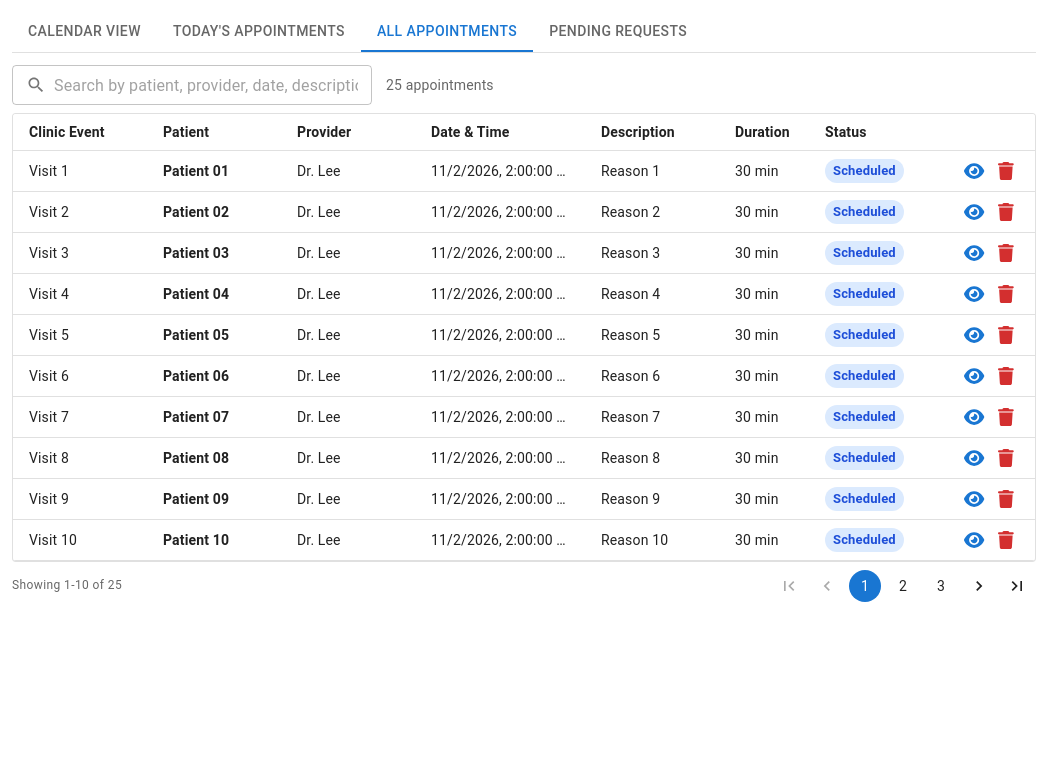
Test: the page bar moves between pages
The width and height of the screenshot is (1048, 780).
Click the button named "go to page 3": (941, 586) [925,570,957,602]
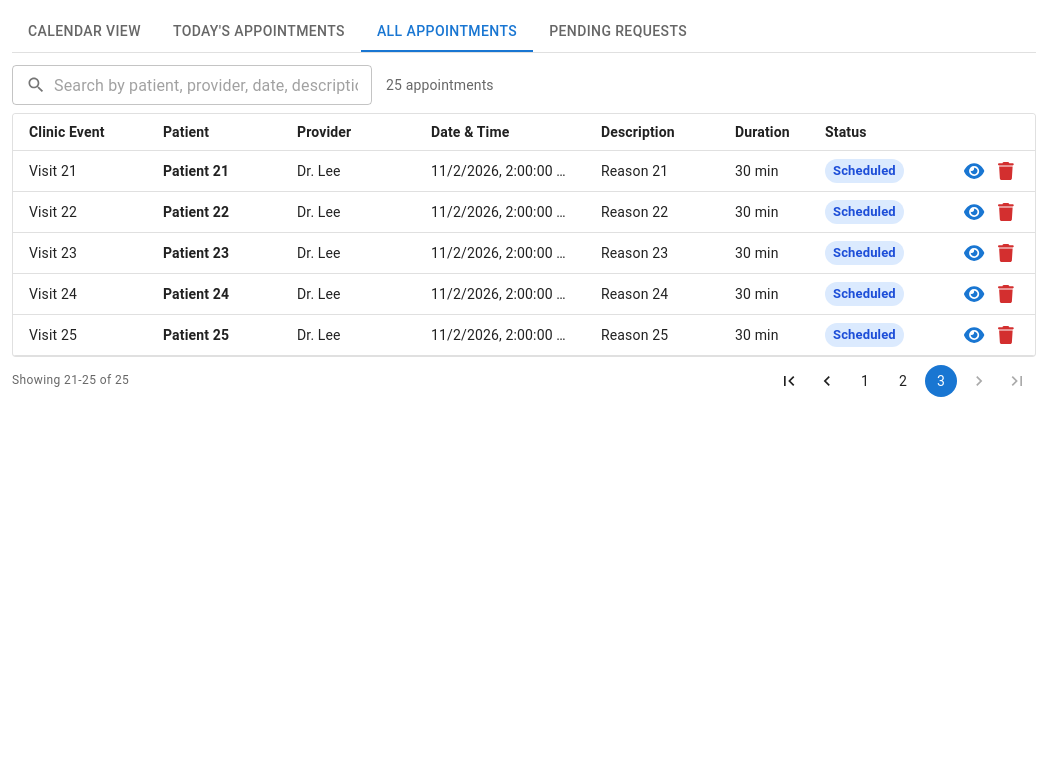
Now the text with test id "appointments-range" reads "Showing 21-25 of 25", box [12,373,129,387]
Now the number of rows is 6, box [13,114,1035,151]; [13,151,1035,192]; [13,192,1035,233]; [13,233,1035,274]; [13,274,1035,315]; [13,315,1035,356]
Now the text "Patient 25" is shown, box [163,327,229,343]
Click the button named "go to first page": (789, 381) [773,365,805,397]
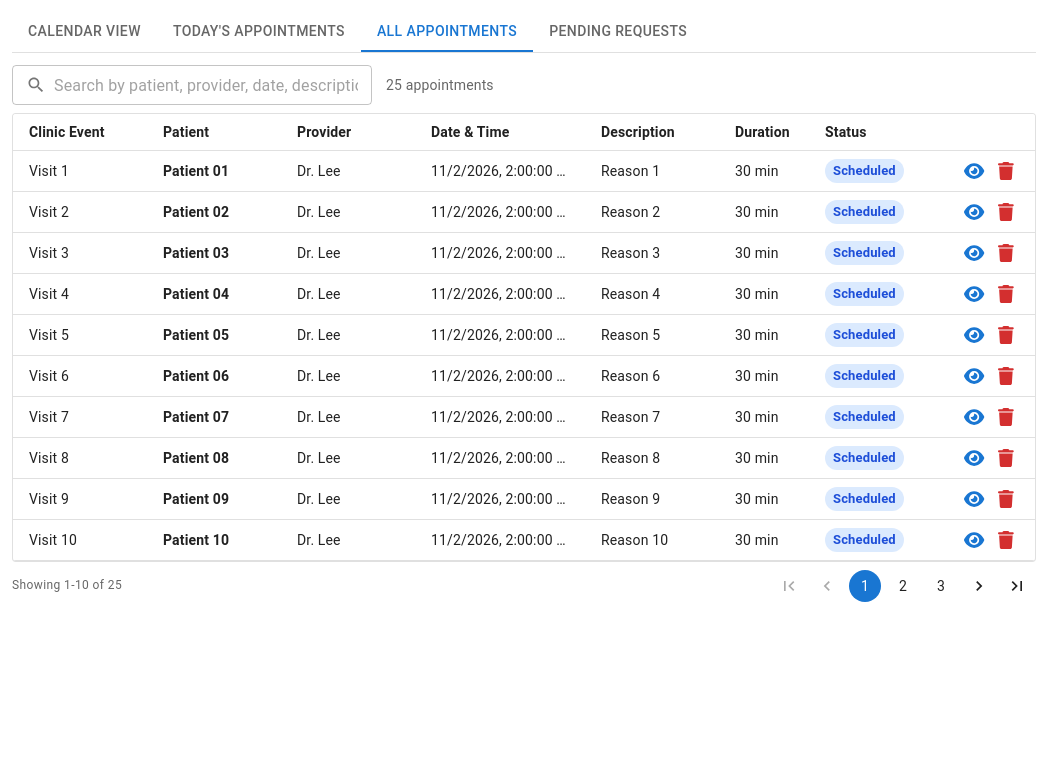
Now the text "Patient 01" is shown, box [163,163,229,179]
